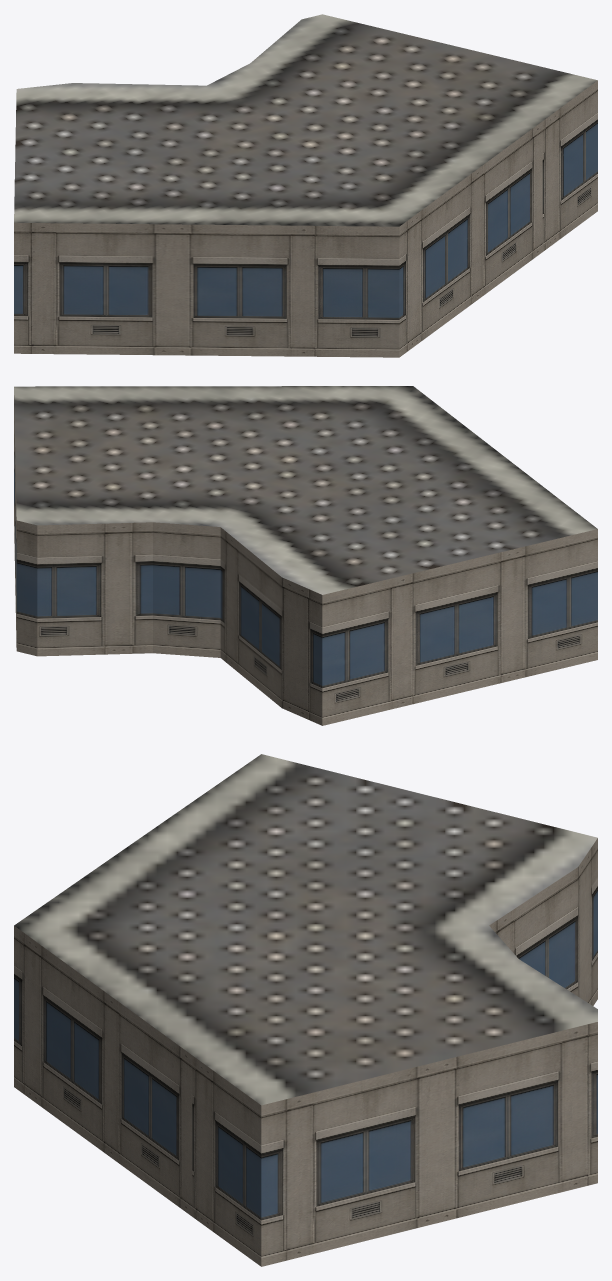
File: building_light_a_34.glb
3 views of the same model, one above another, from view 1: azimuth 30°, elevation 25°; view 2: azimuth 150°, elevation 25°; view 3: azimuth 270°, elevation 25° (orthographic). The views are drawn at different scales.
Parts seen in each view (by area): view 1: buildings/saxarba/building_light/building_light_a_34; view 2: buildings/saxarba/building_light/building_light_a_34; view 3: buildings/saxarba/building_light/building_light_a_34.
Boxes of the visible parts, box(x1,y1,x2,y2) form: buildings/saxarba/building_light/building_light_a_34: box(14, 14, 597, 357); buildings/saxarba/building_light/building_light_a_34: box(14, 386, 597, 725); buildings/saxarba/building_light/building_light_a_34: box(14, 754, 597, 1266).
Bounding box in the file's own units: 84 × 18 × 59.
